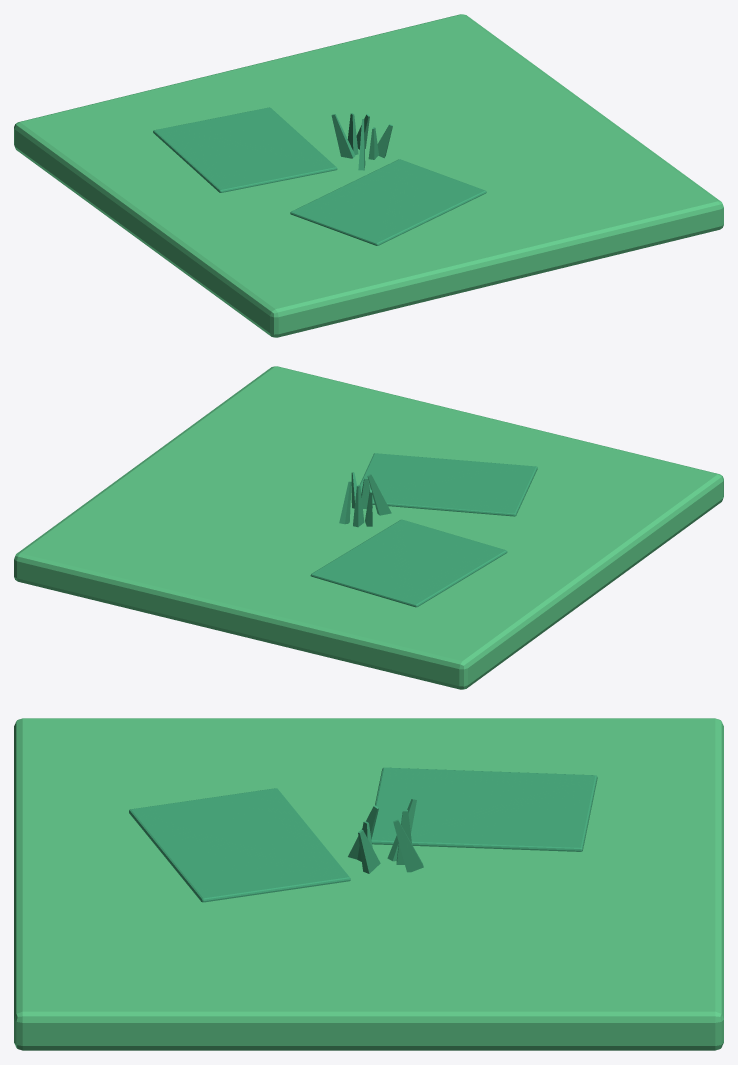
Rendered from grass-floor.glb.
3 renders of one model, top to bottom at view 1: azimuth 30°, elevation 25°; view 2: azimuth 150°, elevation 25°; view 3: azimuth 270°, elevation 25°, orthographic. The views are drawn at different scales.
Visible parts, largest first — view 1: grass-floor; view 2: grass-floor; view 3: grass-floor.
Part boxes in pixels (box(x1,y1,x2,y2)): grass-floor: box(14, 14, 723, 337); grass-floor: box(14, 366, 723, 689); grass-floor: box(14, 718, 723, 1050).
Bounding box in the file's own units: 1 × 0.1482 × 1.
1 material, 1 textured.
